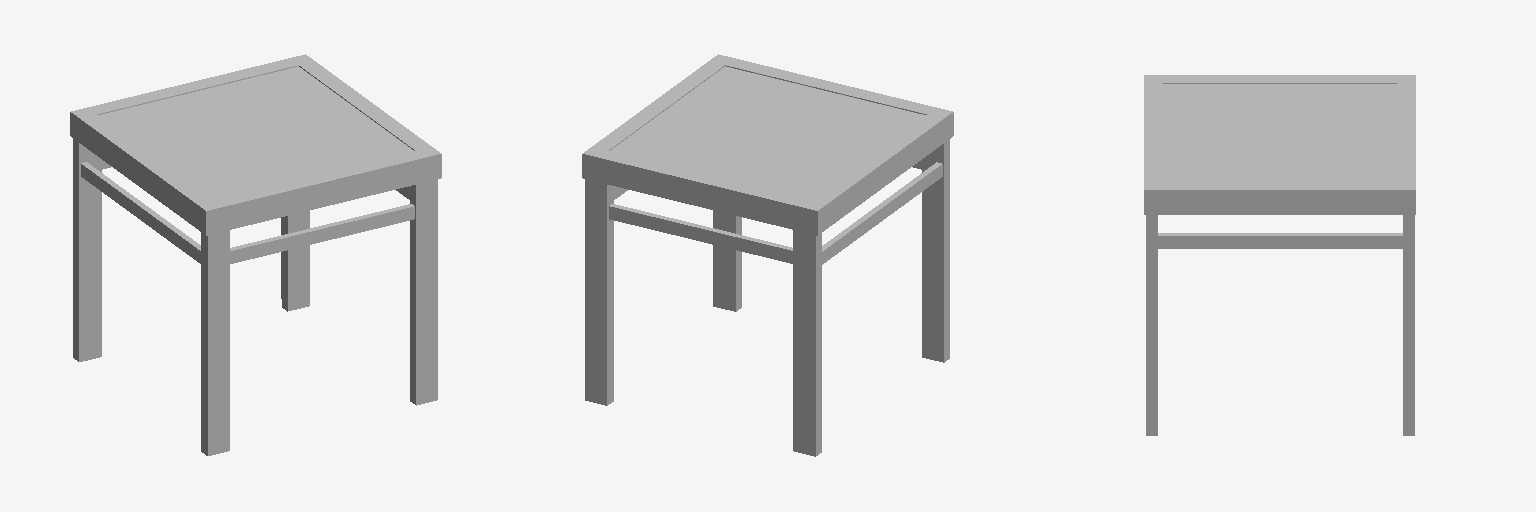
The model's file is simpletable.obj.
3 views of the same model, side by side, from view 1: azimuth 30°, elevation 25°; view 2: azimuth 150°, elevation 25°; view 3: azimuth 270°, elevation 25° (orthographic).
Parts seen in each view (by area): view 1: bedx+; view 2: bedx+; view 3: bedx+.
Boxes of the visible parts, x1,y1,x2,y2 form: bedx+: [70, 54, 441, 455]; bedx+: [582, 54, 953, 456]; bedx+: [1144, 75, 1415, 435].
Size of the model in its own units: 1 by 1 by 1.